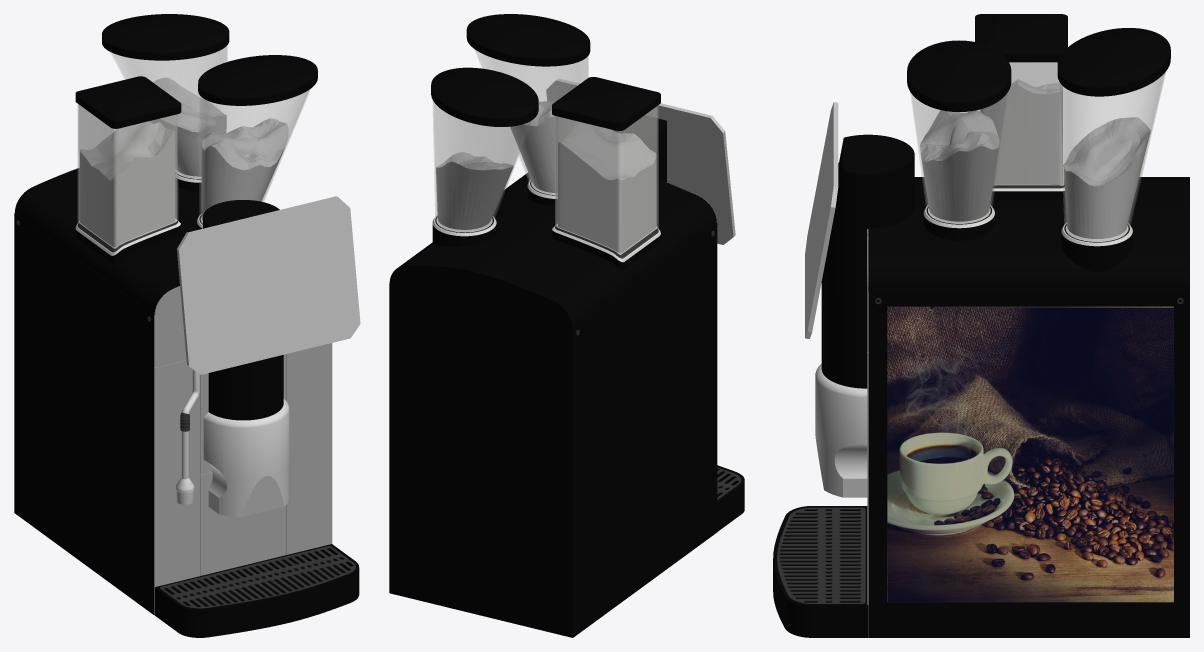
Rendered from Coffee_machine_1.fbx.
3 views of the same model, side by side, from view 1: azimuth 30°, elevation 25°; view 2: azimuth 150°, elevation 25°; view 3: azimuth 270°, elevation 25° (orthographic). The views are drawn at different scales.
Visible parts, largest first — view 1: Rectangle2, pCube3, Rectangle4, Rectangle5, Rectangle0, Circle01, Circle02, Circle03, òóá, Ellipse02, Ellipse01, Rectangle3 (+4 smaller); view 2: Rectangle2, Rectangle4, Rectangle5, Circle05, pCube3, Circle01, Ellipse01, Ellipse02, Circle04, Rectangle6, Circle03, òóá (+1 smaller); view 3: pPlane1, Rectangle2, Circle05, òóá, Circle01, Rectangle4, Circle04, Circle03, Rectangle0, Rectangle3, Rectangle5, Ellipse02 (+4 smaller).
Boxes of the visible parts, x1=… form: Rectangle2: x1=14, y1=168, x2=332, y2=614; pCube3: x1=177, y1=196, x2=360, y2=374; Rectangle4: x1=75, y1=104, x2=180, y2=263; Rectangle5: x1=80, y1=121, x2=175, y2=247; Rectangle0: x1=154, y1=544, x2=359, y2=637; Circle01: x1=197, y1=89, x2=310, y2=229; Circle02: x1=203, y1=398, x2=289, y2=517; Circle03: x1=201, y1=118, x2=288, y2=220; òóá: x1=203, y1=200, x2=283, y2=420; Ellipse02: x1=102, y1=14, x2=229, y2=60; Ellipse01: x1=198, y1=55, x2=317, y2=105; Rectangle3: x1=159, y1=546, x2=355, y2=608; Rectangle2: x1=389, y1=172, x2=717, y2=637; Rectangle4: x1=552, y1=105, x2=660, y2=269; Rectangle5: x1=558, y1=121, x2=656, y2=253; Circle05: x1=432, y1=100, x2=531, y2=246; pCube3: x1=546, y1=78, x2=735, y2=244; Circle01: x1=474, y1=49, x2=588, y2=205; Ellipse01: x1=466, y1=14, x2=590, y2=66; Ellipse02: x1=431, y1=67, x2=538, y2=126; Circle04: x1=436, y1=152, x2=513, y2=229; Rectangle6: x1=552, y1=77, x2=660, y2=130; Circle03: x1=510, y1=101, x2=576, y2=192; òóá: x1=613, y1=115, x2=666, y2=182; pPlane1: x1=887, y1=306, x2=1173, y2=602; Rectangle2: x1=867, y1=177, x2=1189, y2=637; Circle05: x1=1059, y1=72, x2=1165, y2=272; òóá: x1=821, y1=134, x2=914, y2=388; Circle01: x1=910, y1=92, x2=1008, y2=240; Rectangle4: x1=991, y1=62, x2=1065, y2=199; Circle04: x1=1063, y1=117, x2=1150, y2=238; Circle03: x1=920, y1=110, x2=999, y2=221; Rectangle0: x1=773, y1=506, x2=868, y2=637; Rectangle3: x1=777, y1=507, x2=865, y2=603; Rectangle5: x1=980, y1=79, x2=1062, y2=185; Ellipse02: x1=1057, y1=28, x2=1170, y2=96.
Bounding box in the file's own units: 54.38 × 125 × 85.35.
